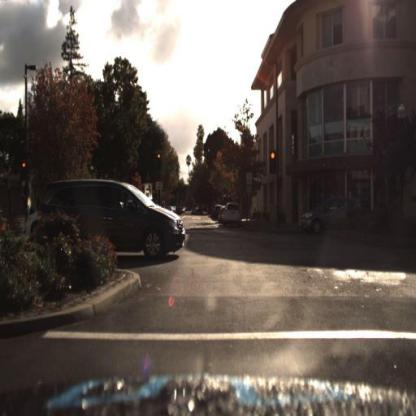car: (44, 175, 187, 255), (16, 178, 53, 248)
trafficLight-Red: (269, 146, 278, 172), (22, 156, 30, 175), (156, 145, 163, 166)
